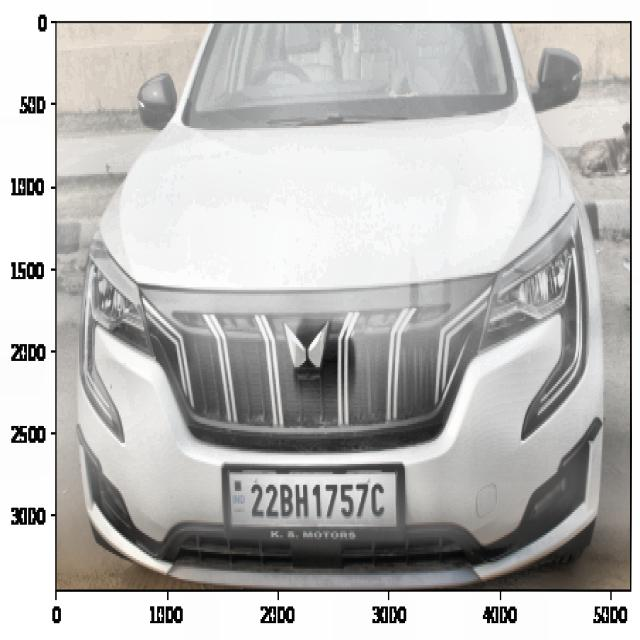license_plate: (244, 469, 393, 529)
